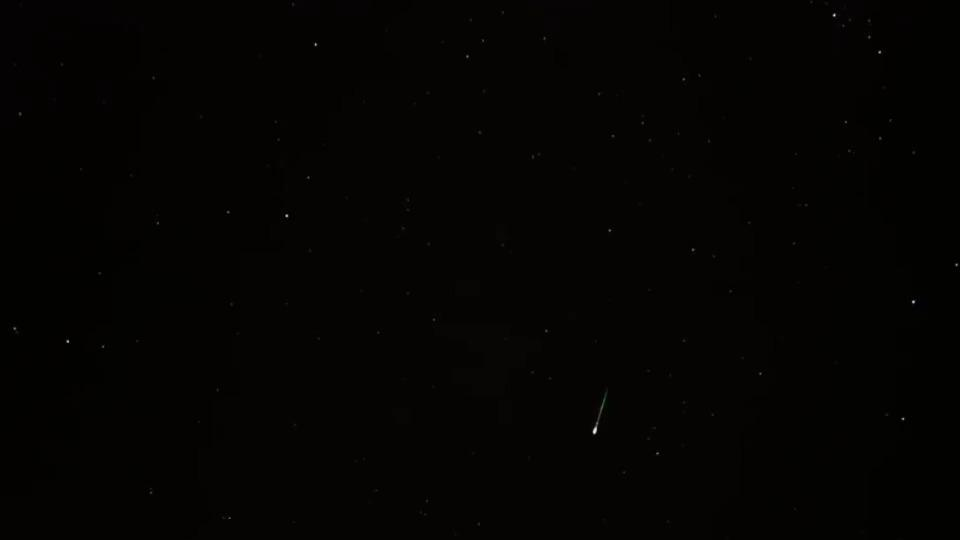meteorite: (541, 384, 656, 440)
